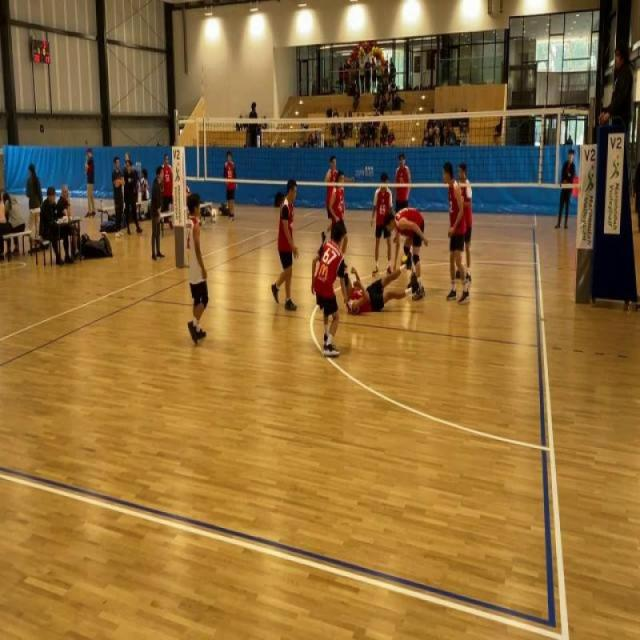volleyball: (400, 254, 408, 266), (100, 230, 108, 239)
